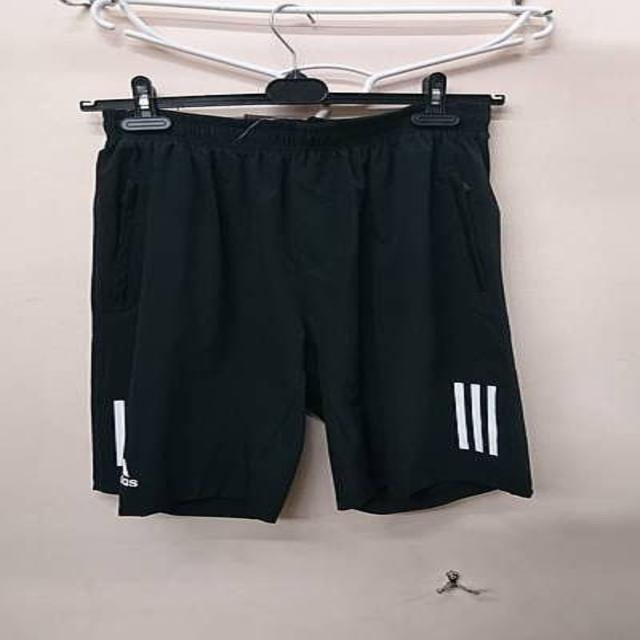SHORT: (44, 111, 566, 522)
